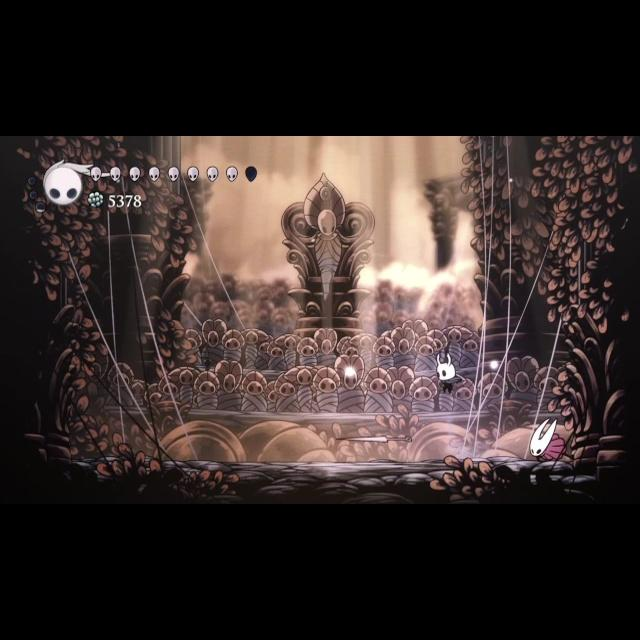Enemy: (526, 416, 576, 464)
NailAttack: (334, 428, 418, 452)
Player: (434, 349, 466, 401)
